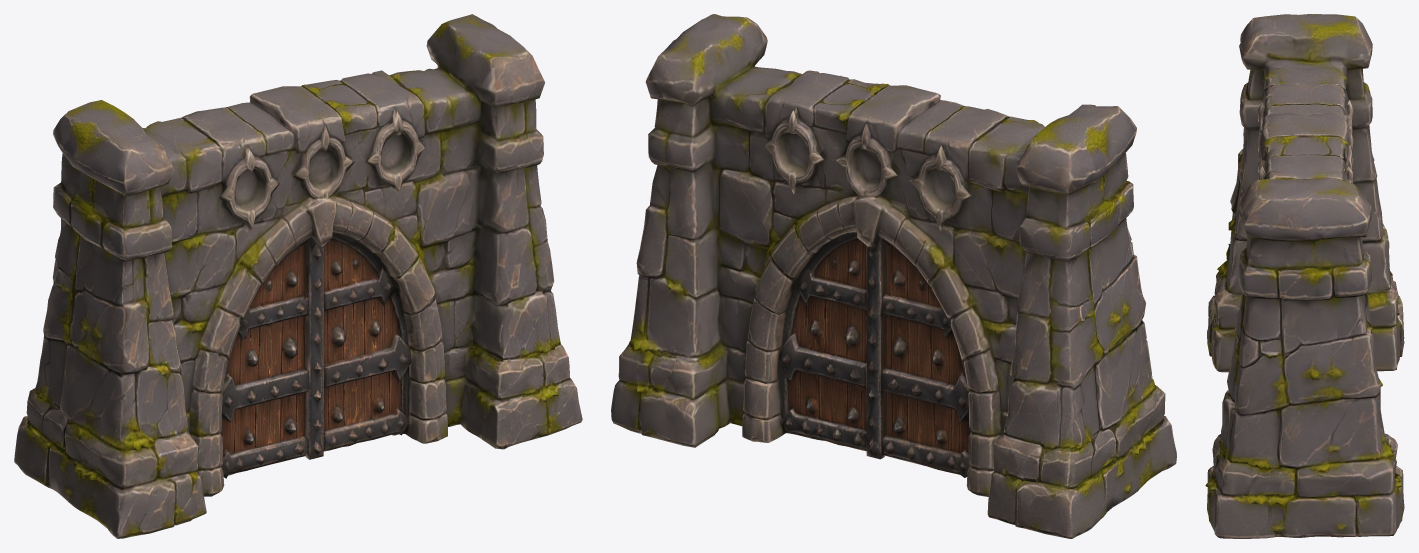
The model's file is gate.glb.
3 renders of one model, left to right at view 1: azimuth 30°, elevation 25°; view 2: azimuth 150°, elevation 25°; view 3: azimuth 270°, elevation 25°, orthographic. The views are drawn at different scales.
Visible parts, largest first — view 1: gate; view 2: gate; view 3: gate.
Boxes of the visible parts, x1,y1,x2,y2 form: gate: (14, 14, 582, 538); gate: (611, 14, 1176, 538); gate: (1205, 14, 1404, 538).
Size of the model in its own units: 12 by 9 by 4.83.
1 material, 1 textured.
